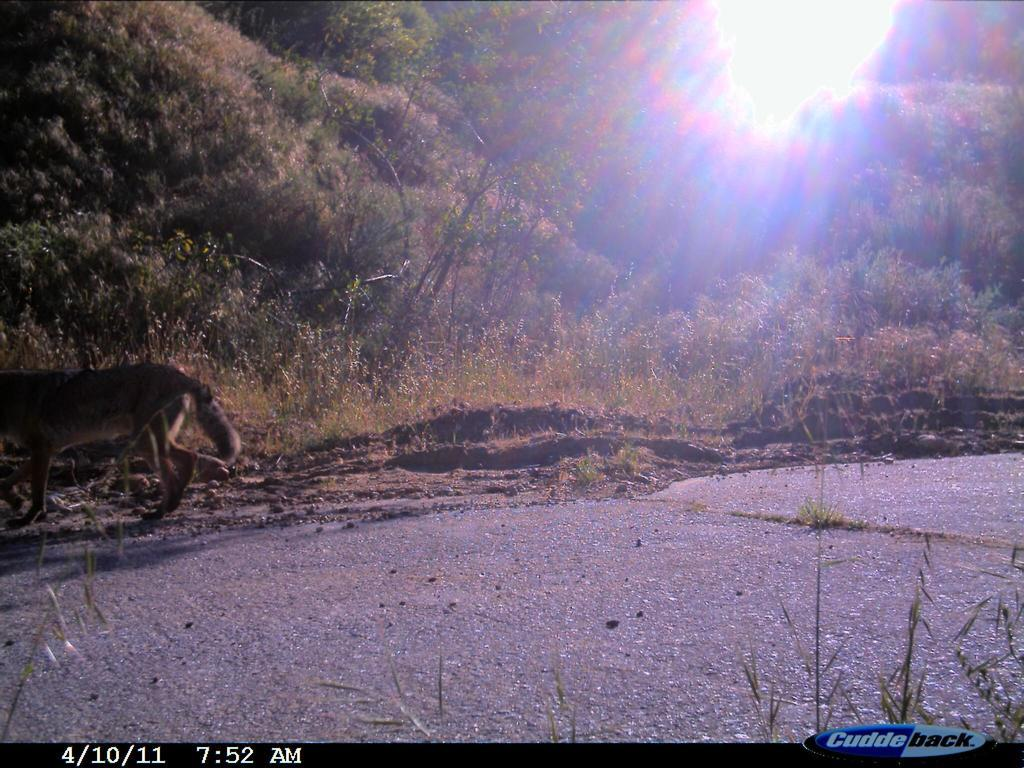coyote: (7, 347, 249, 541)
